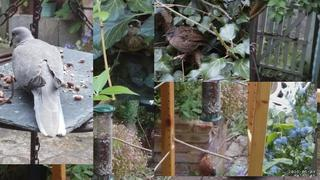collared dove: (9, 27, 66, 138)
dunnock: (161, 27, 223, 61)
